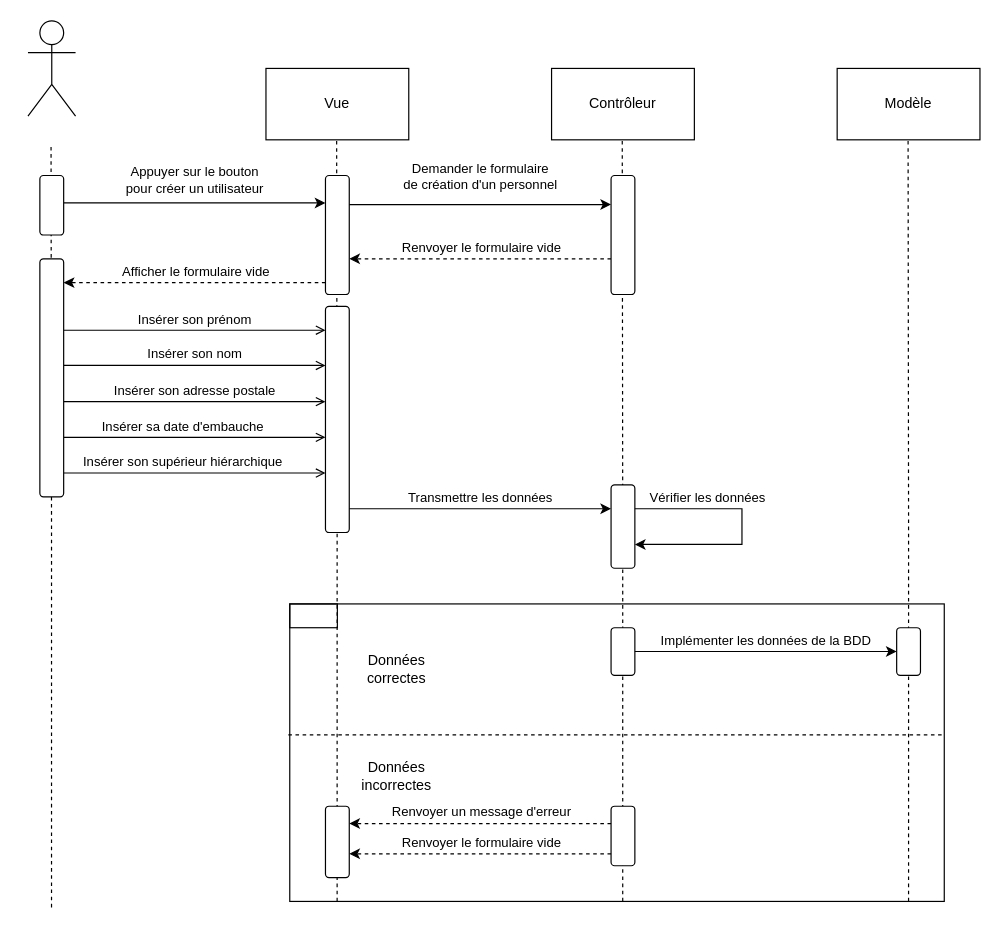
Some shapes in this 1001 by 929 pixel diagram are drawn without their labels. The shapes that lost their labels are listed below. From the top down, each one's centre as x and y in pixels, then its label:
point 51,68: Utilisateur
point 313,615: alt
